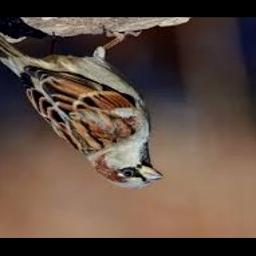Sparrow: (0, 21, 162, 189)
